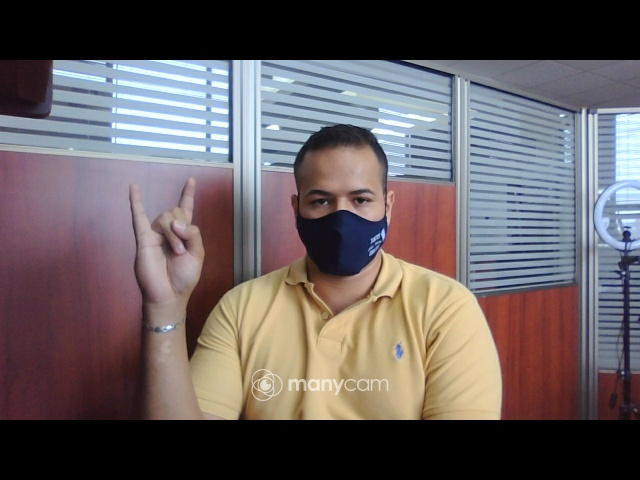I Love You: (126, 176, 210, 318)
